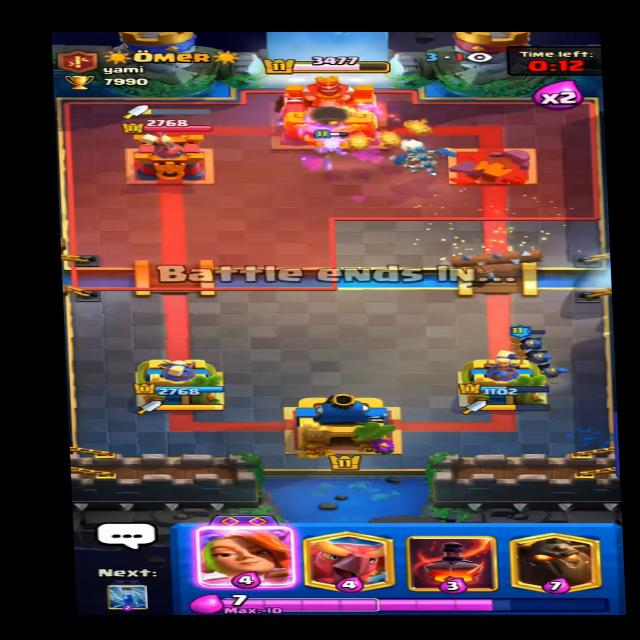log: (440, 247, 554, 267)
